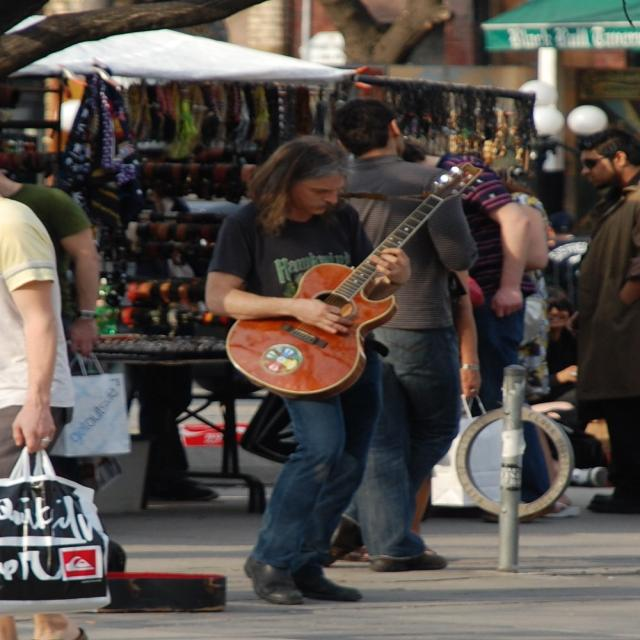guitar: (224, 163, 486, 405)
